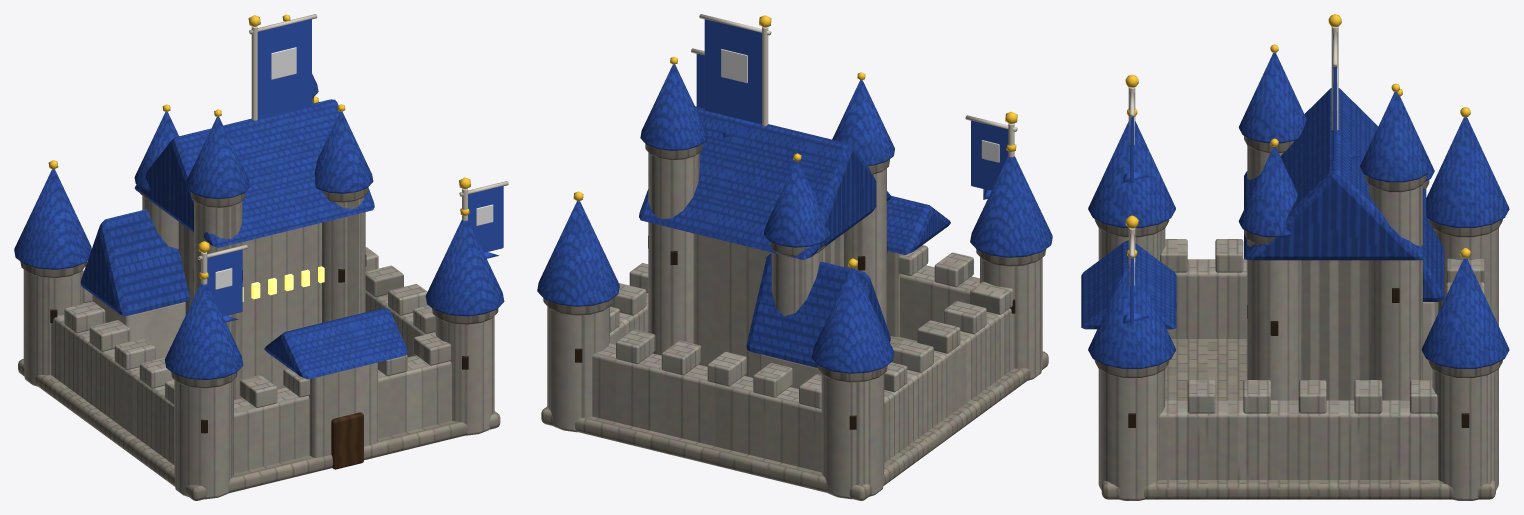
The model's file is castle.glb.
The picture shows the model from 3 angles, left to right: view 1: azimuth 30°, elevation 25°; view 2: azimuth 150°, elevation 25°; view 3: azimuth 270°, elevation 25°; orthographic projection. The views are drawn at different scales.
Visible parts, largest first — view 1: base; view 2: base; view 3: base.
Part boxes in pixels (x1=…): base: x1=14, y1=14, x2=508, y2=500; base: x1=537, y1=14, x2=1052, y2=500; base: x1=1081, y1=14, x2=1509, y2=500.
Bounding box in the file's own units: 1.42 × 1.5 × 1.41.
3 materials, 1 textured.
